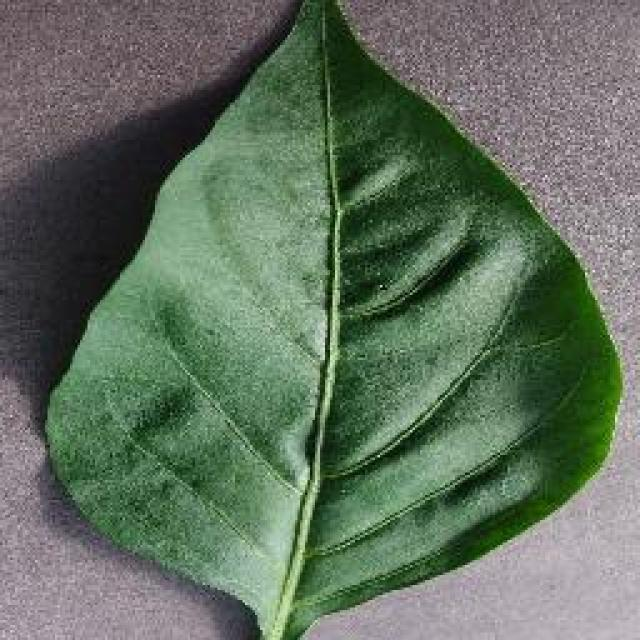Leaf: (21, 0, 636, 640)
